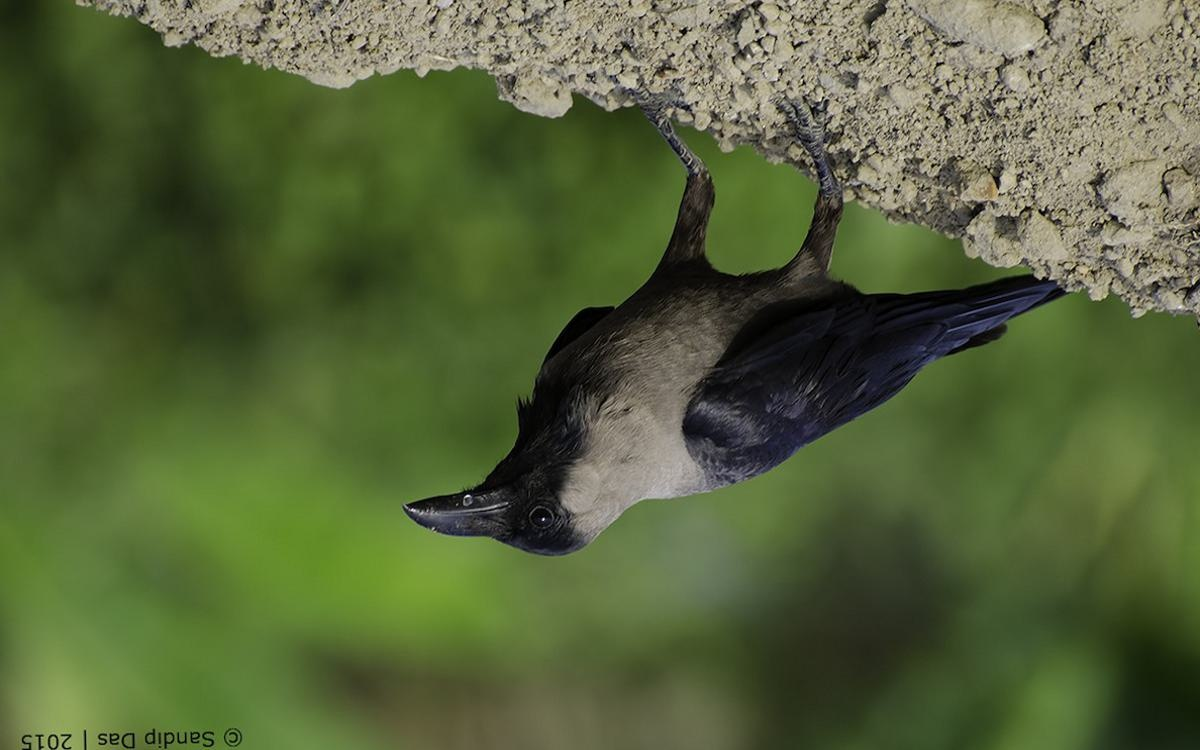crow: (381, 167, 1111, 571)
